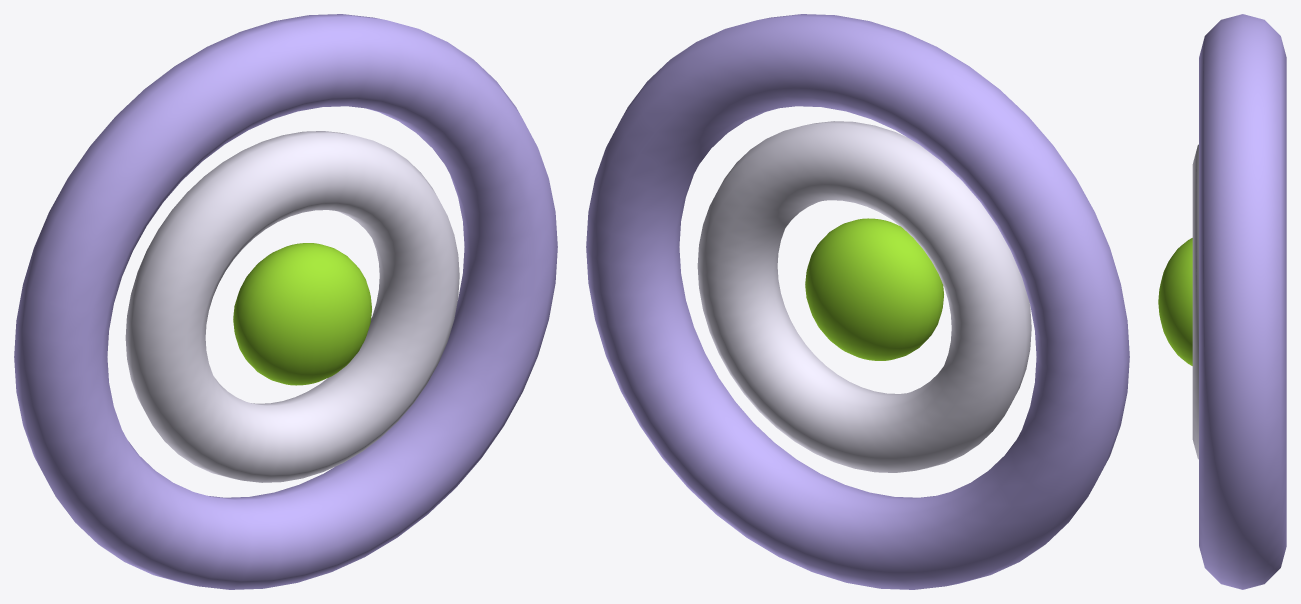
The model's file is target.glb.
The picture shows the model from 3 angles, left to right: view 1: azimuth 30°, elevation 25°; view 2: azimuth 150°, elevation 25°; view 3: azimuth 270°, elevation 25°; orthographic projection. The views are drawn at different scales.
Visible parts, largest first — view 1: target; view 2: target; view 3: target.
Boxes of the visible parts, <box> form: target: <box>14,14,557,589</box>; target: <box>586,14,1129,589</box>; target: <box>1158,14,1286,589</box>.
Bounding box in the file's own units: 1.84 × 1.84 × 0.41.
